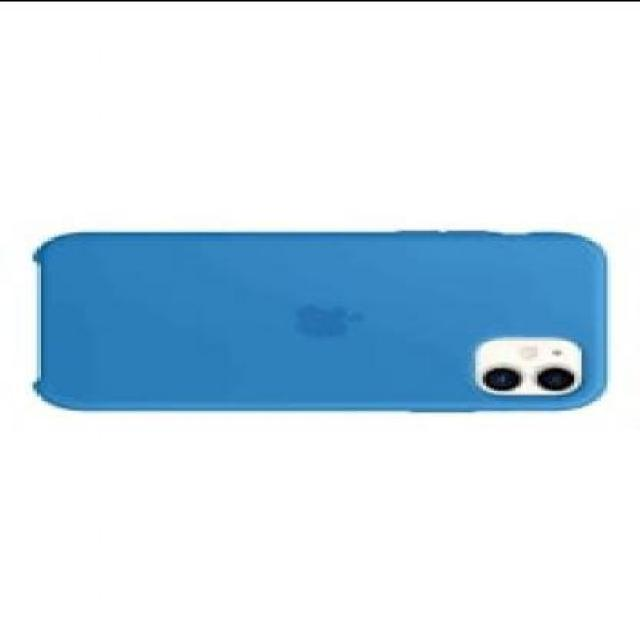phone: (29, 229, 611, 411)
